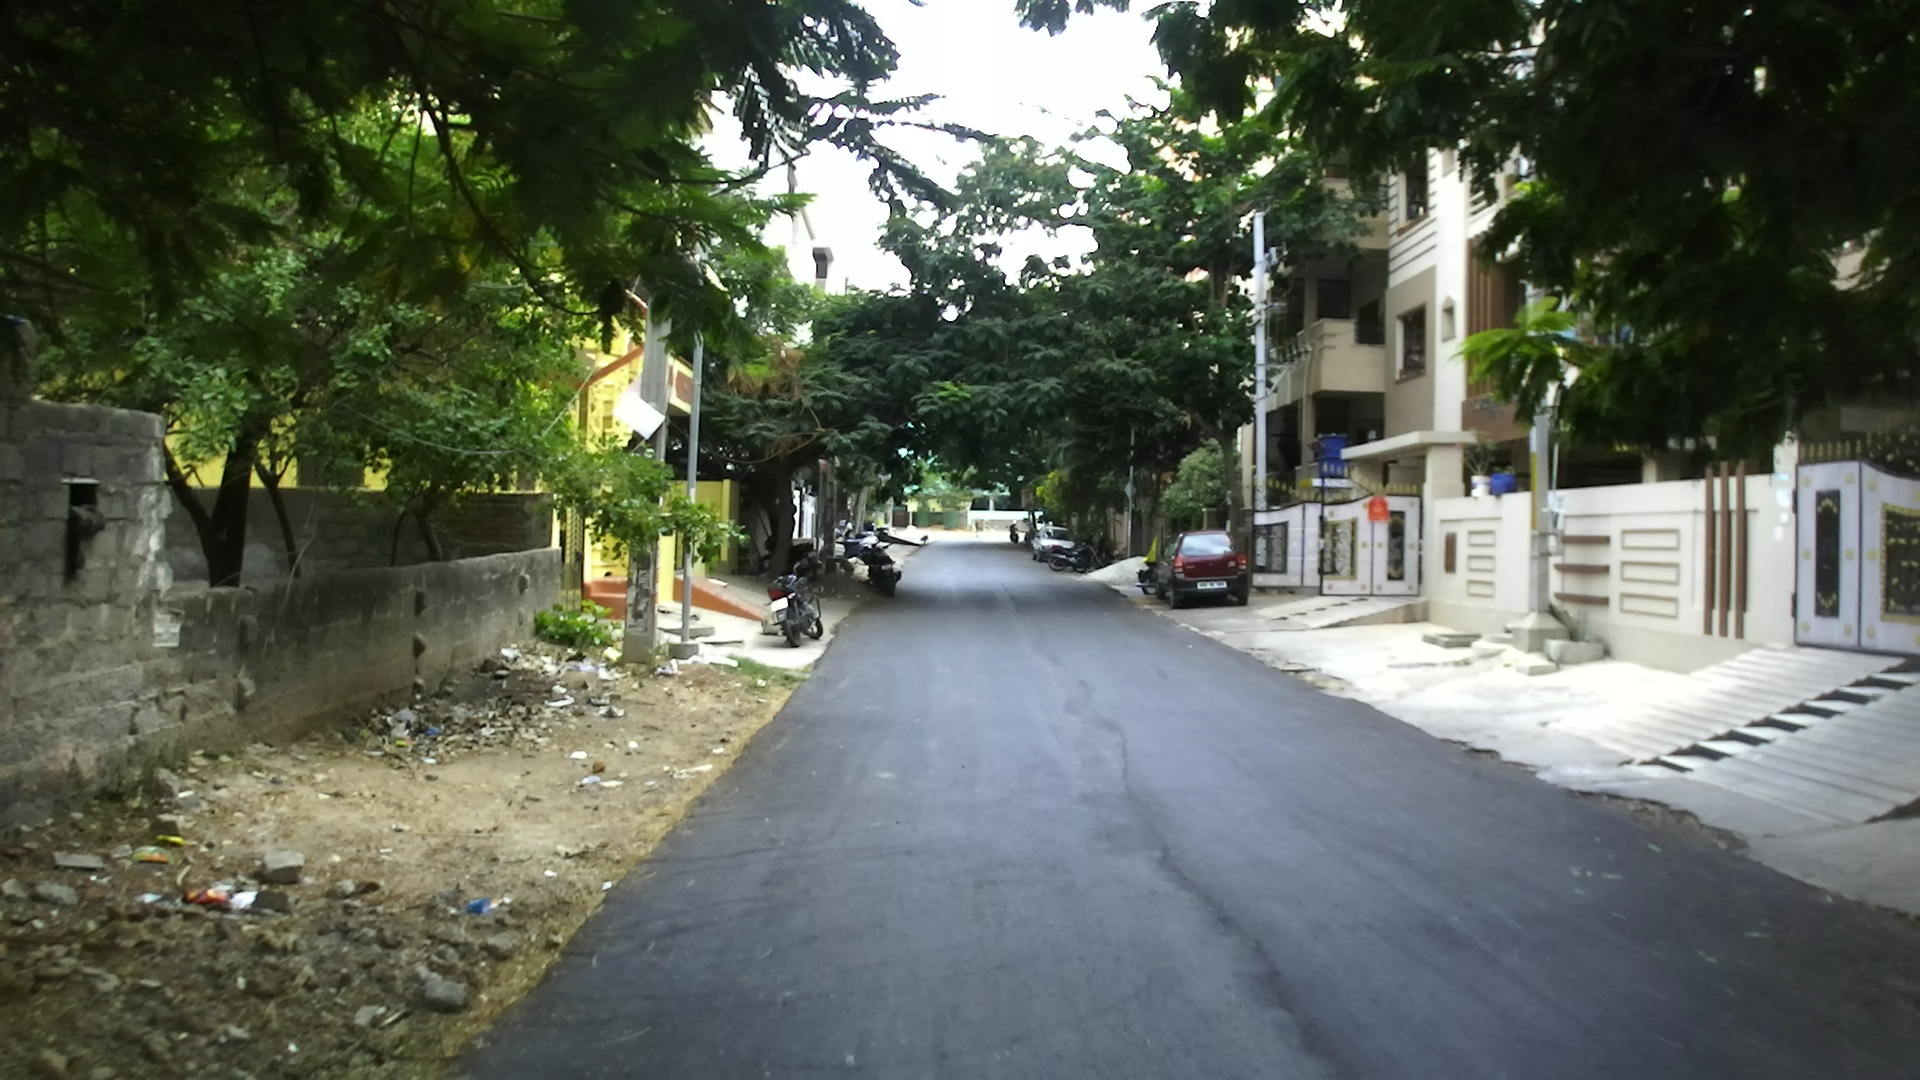vehicle: (1156, 531, 1251, 608), (1036, 531, 1083, 571)
